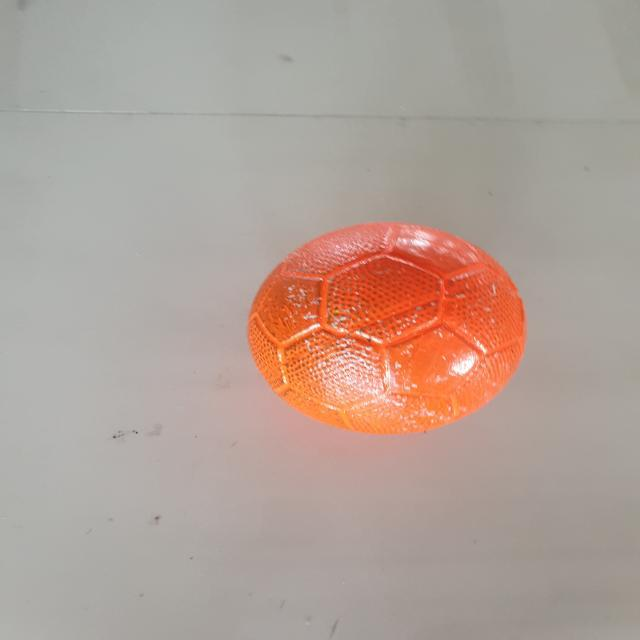bola: (237, 212, 539, 442)
